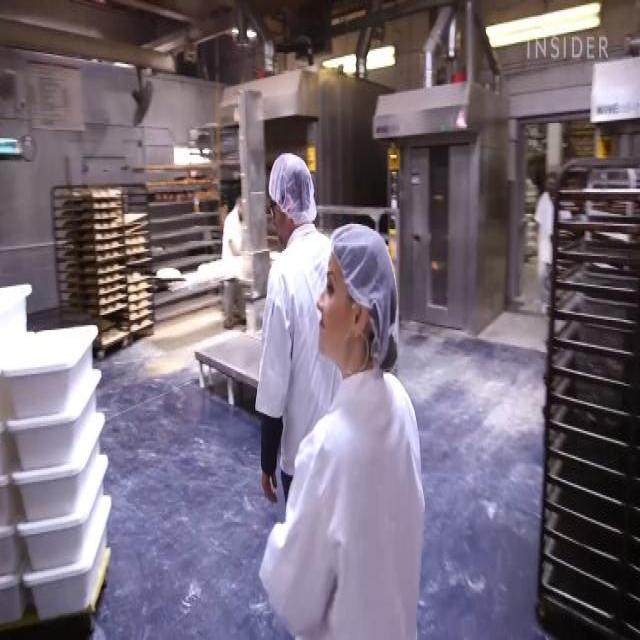hairnet: (332, 222, 400, 368), (268, 150, 317, 224)
